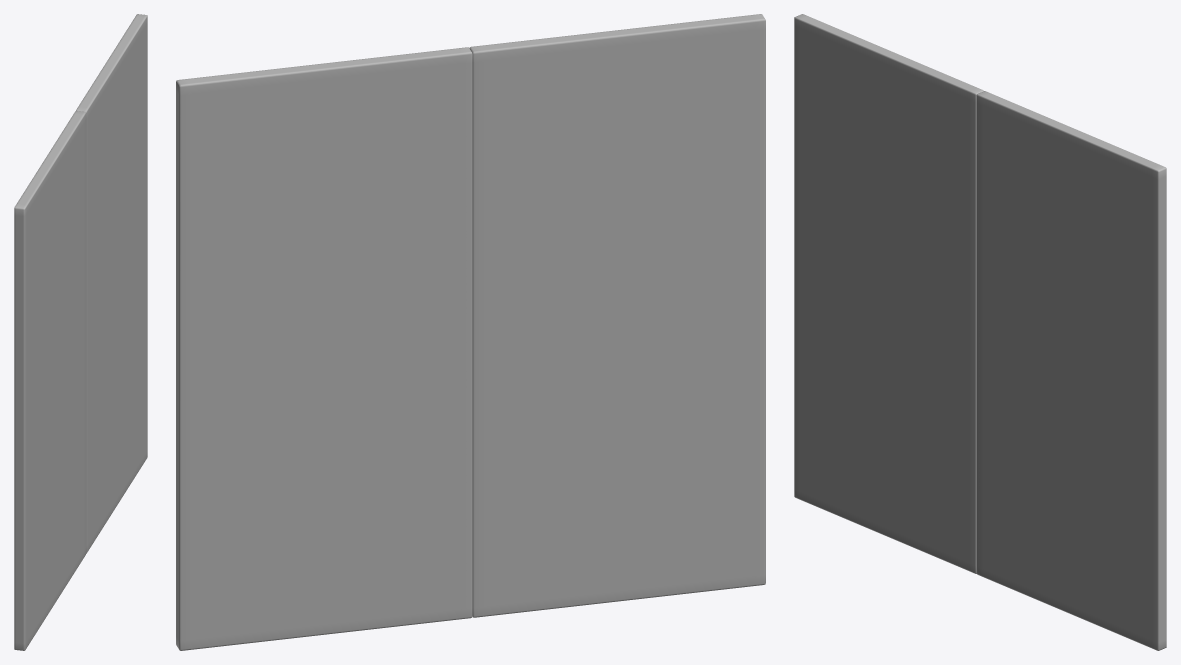
Rendered from tvtable_0204_door.glb.
3 renders of one model, left to right at view 1: azimuth 30°, elevation 25°; view 2: azimuth 150°, elevation 25°; view 3: azimuth 270°, elevation 25°, orthographic. The views are drawn at different scales.
Parts seen in each view (by area): view 1: tvtable_0204_door; view 2: tvtable_0204_door; view 3: tvtable_0204_door.
Boxes of the visible parts, box(x1,y1,x2,y2) form: tvtable_0204_door: box(14, 14, 147, 650); tvtable_0204_door: box(176, 14, 765, 650); tvtable_0204_door: box(794, 14, 1166, 650).
Size of the model in its own units: 0.5774 by 0.8216 by 0.5774.
1 material, 1 textured.
